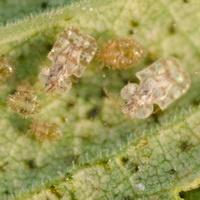insect: (121, 57, 189, 117), (46, 27, 96, 93), (97, 38, 145, 68)
